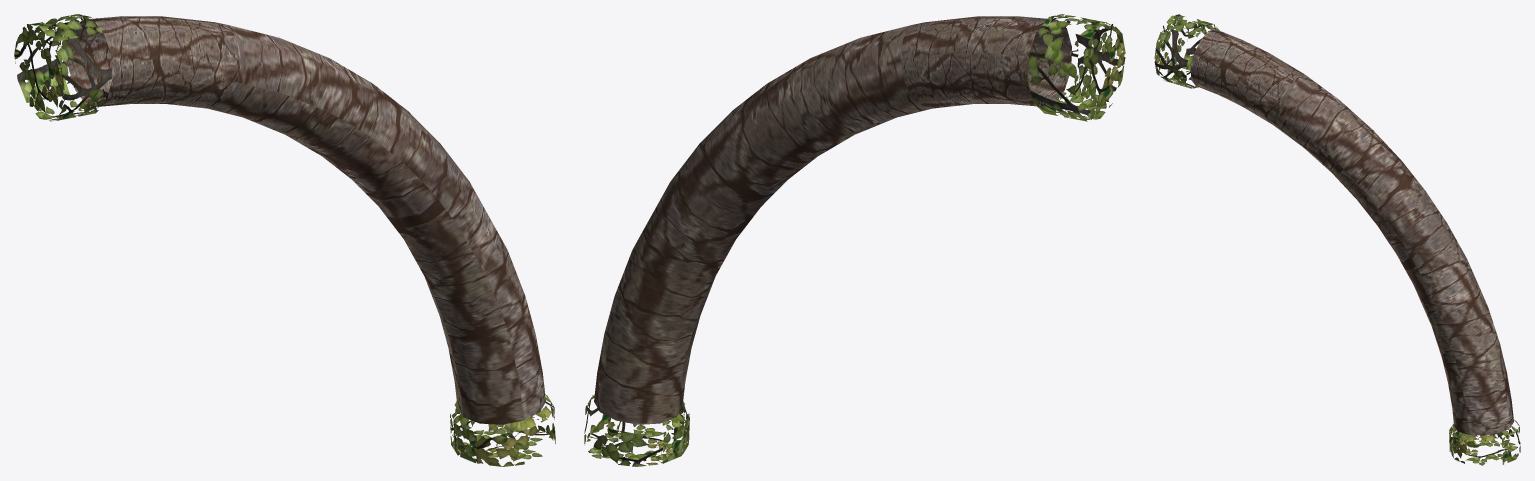
3 renders of one model, left to right at view 1: azimuth 30°, elevation 25°; view 2: azimuth 150°, elevation 25°; view 3: azimuth 330°, elevation 25°, orthographic. The views are drawn at different scales.
Parts seen in each view (by area): view 1: Tube_L_B90; view 2: Tube_L_B90; view 3: Tube_L_B90.
Boxes of the visible parts, <box> form: Tube_L_B90: <box>14,14,555,466</box>; Tube_L_B90: <box>584,14,1125,466</box>; Tube_L_B90: <box>1154,14,1520,465</box>.
Bounding box in the file's own units: 3.75 × 0.6677 × 3.74.
